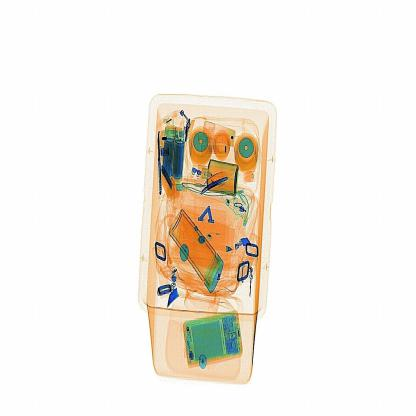pliers: (199, 170, 228, 198)
